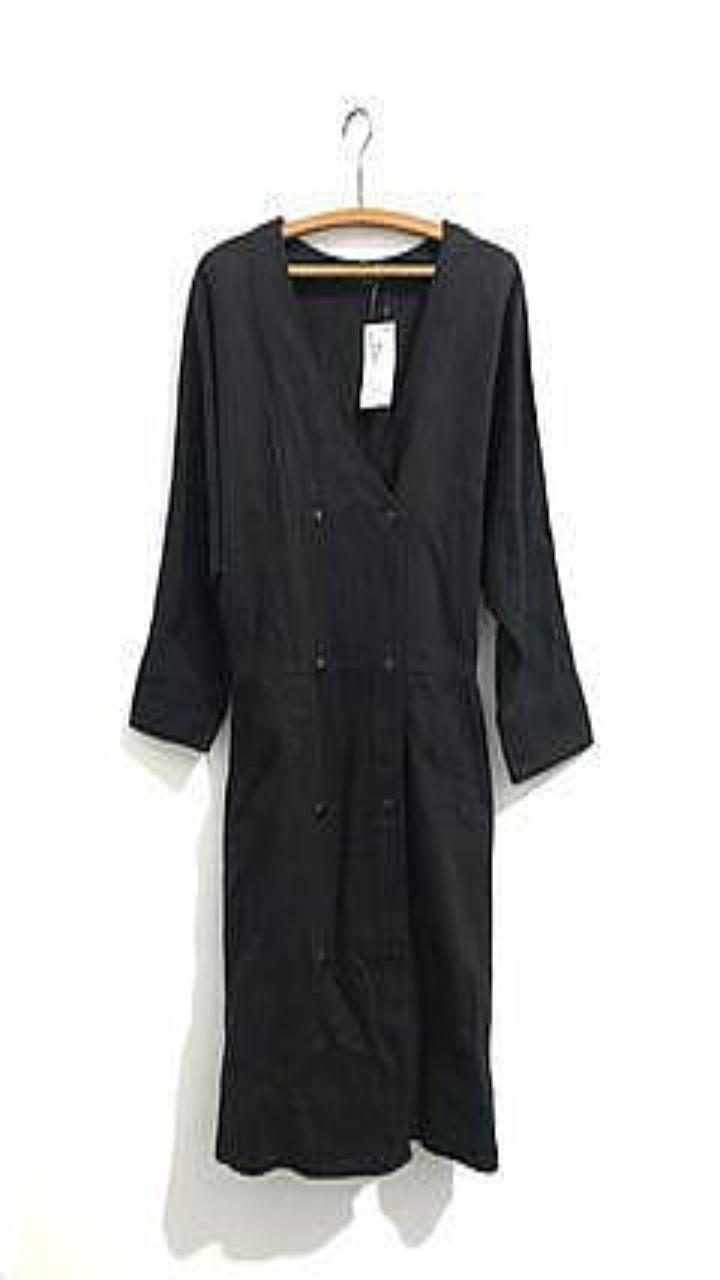Coat: (129, 217, 592, 1176)
